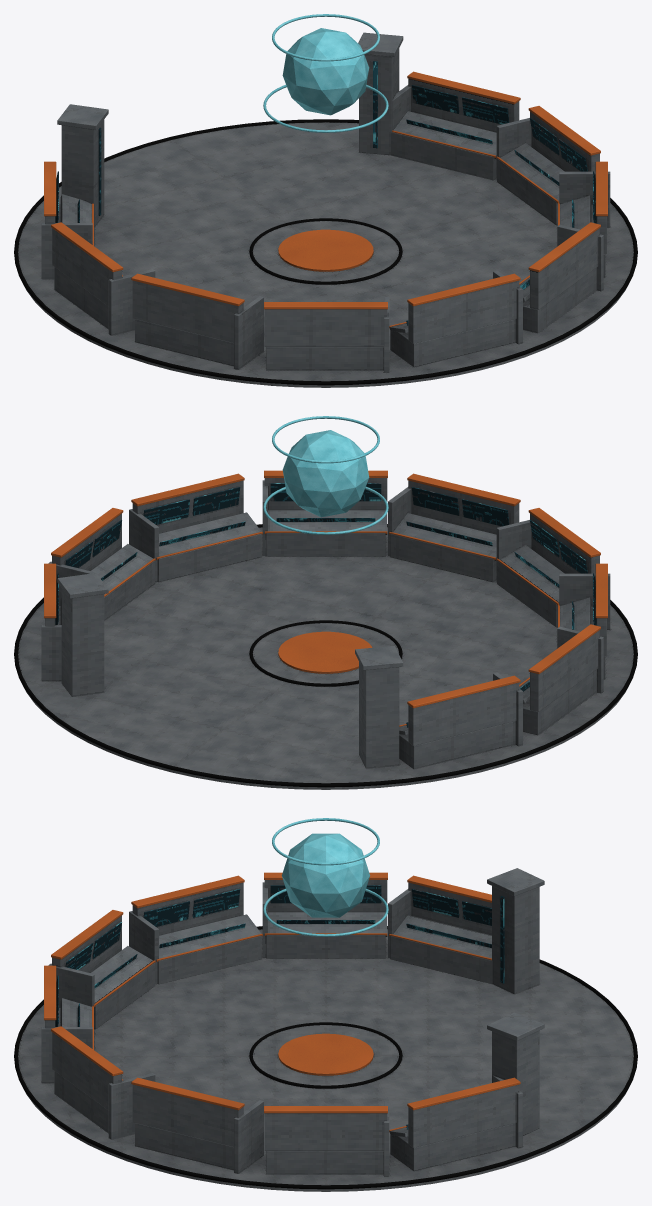
Rendered from base_command_console.glb.
3 renders of one model, top to bottom at view 1: azimuth 30°, elevation 25°; view 2: azimuth 150°, elevation 25°; view 3: azimuth 270°, elevation 25°, orthographic.
Visible parts, largest first — view 1: base_command_console; view 2: base_command_console; view 3: base_command_console.
Boxes of the visible parts, x1,y1,x2,y2 form: base_command_console: (14,14,637,387); base_command_console: (14,416,637,789); base_command_console: (14,818,637,1191).
Size of the model in its own units: 18.32 by 7.3 by 18.32.
Materials: 6 (6 with a texture image).
